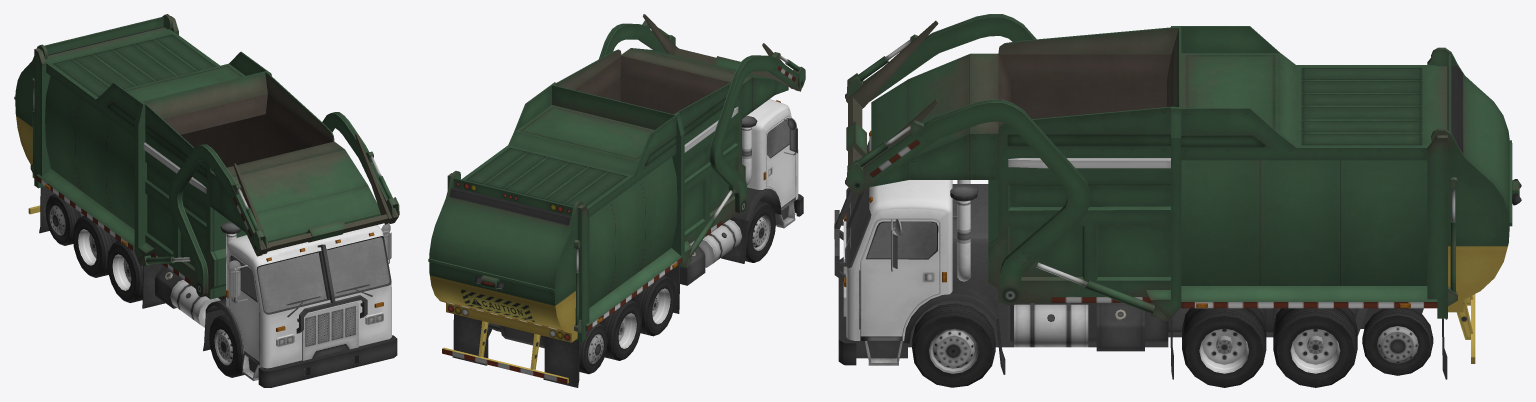
File: truck.fbx
3 views of the same model, side by side, from view 1: azimuth 30°, elevation 25°; view 2: azimuth 150°, elevation 25°; view 3: azimuth 270°, elevation 25° (orthographic). The views are drawn at different scales.
Parts seen in each view (by area): view 1: body, polySurface10, polySurface12, polySurface6, polySurface4; view 2: body, polySurface12, polySurface10, polySurface6, polySurface4; view 3: body, polySurface8, polySurface2, polySurface5, polySurface3.
Boxes of the visible parts, x1,y1,x2,y2 form: body: (14, 14, 399, 387); polySurface10: (73, 215, 118, 277); polySurface12: (107, 241, 142, 302); polySurface6: (209, 314, 244, 377); polySurface4: (45, 194, 81, 245); body: (428, 14, 805, 387); polySurface12: (631, 275, 675, 336); polySurface10: (599, 300, 641, 360); polySurface6: (745, 200, 775, 262); polySurface4: (579, 323, 607, 374); body: (834, 14, 1521, 379); polySurface8: (1273, 308, 1357, 387); polySurface2: (1182, 308, 1266, 387); polySurface5: (912, 303, 995, 387); polySurface3: (1362, 308, 1433, 375).
Bounding box in the file's own units: 295 × 378 × 814.
Materials: 1 (1 with a texture image).
